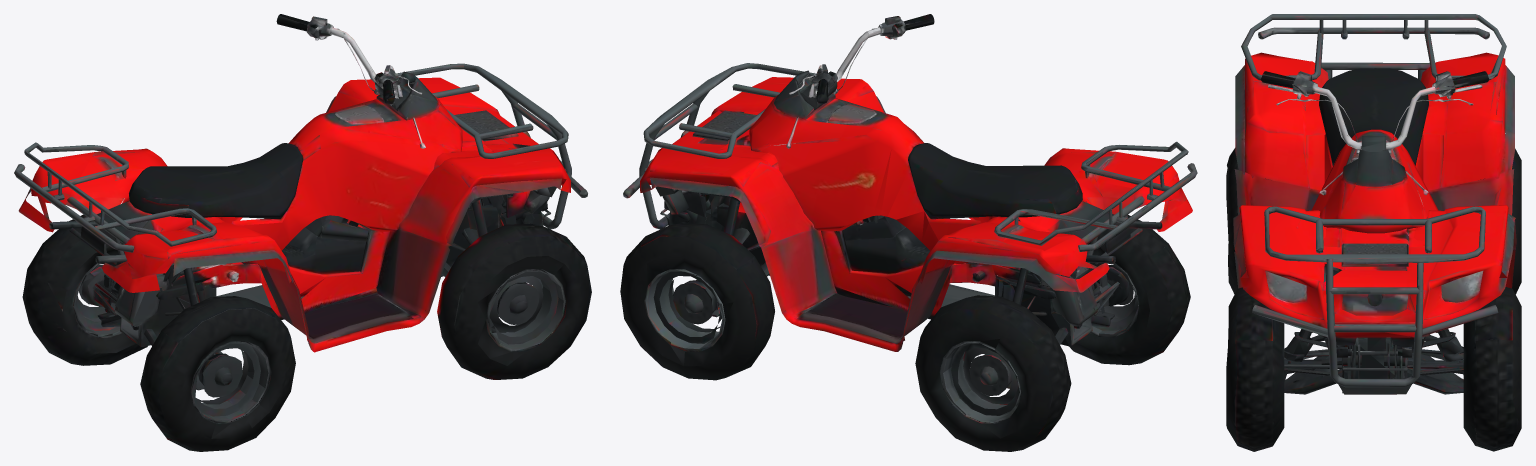
Rendered from atv.glb.
The picture shows the model from 3 angles, left to right: view 1: azimuth 30°, elevation 25°; view 2: azimuth 150°, elevation 25°; view 3: azimuth 270°, elevation 25°; orthographic projection.
Parts seen in each view (by area): view 1: atv, wheel-0, wheel-3, wheel-2; view 2: atv, wheel-2, wheel-1, wheel-3; view 3: atv, wheel-1, wheel-0, wheel-3, wheel-2.
Part boxes in pixels (x1,y1,x2,y2): atv: (14, 14, 587, 390); wheel-0: (437, 223, 591, 379); wheel-3: (140, 296, 295, 451); wheel-2: (22, 214, 147, 365); atv: (623, 14, 1197, 388); wheel-2: (915, 295, 1071, 451); wheel-1: (620, 223, 774, 380); wheel-3: (1069, 215, 1190, 365); atv: (1233, 14, 1516, 394); wheel-1: (1463, 287, 1521, 451); wheel-0: (1226, 287, 1284, 451); wheel-3: (1226, 148, 1268, 294); wheel-2: (1480, 148, 1521, 294).
Bounding box in the file's own units: 2.1 × 1.3 × 1.09.
1 material, 1 textured.
